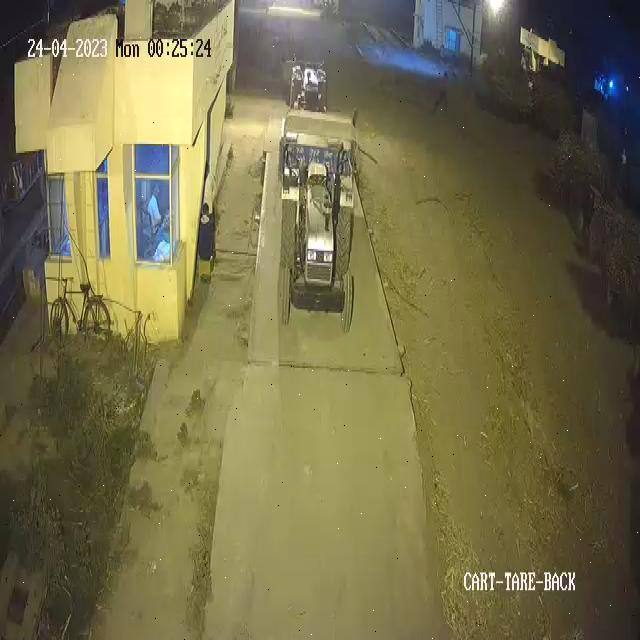Tratores - v5 YOLO V8L 2024-11-13: (276, 142, 361, 344)
